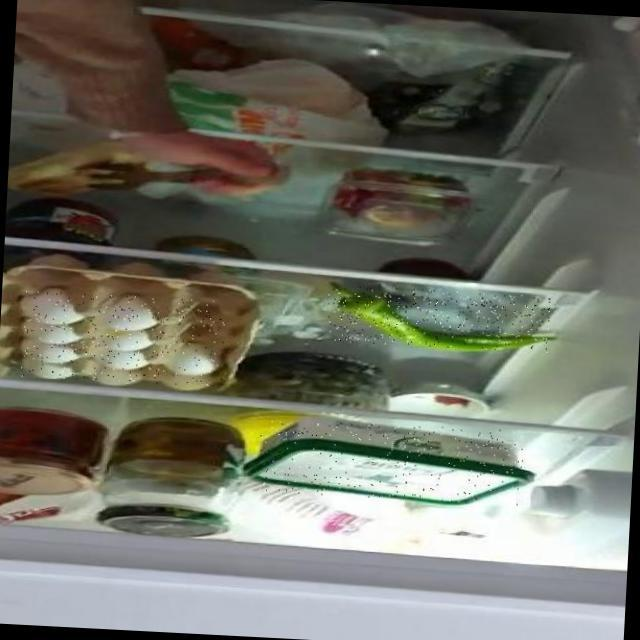Huevos: (19, 289, 226, 386)
